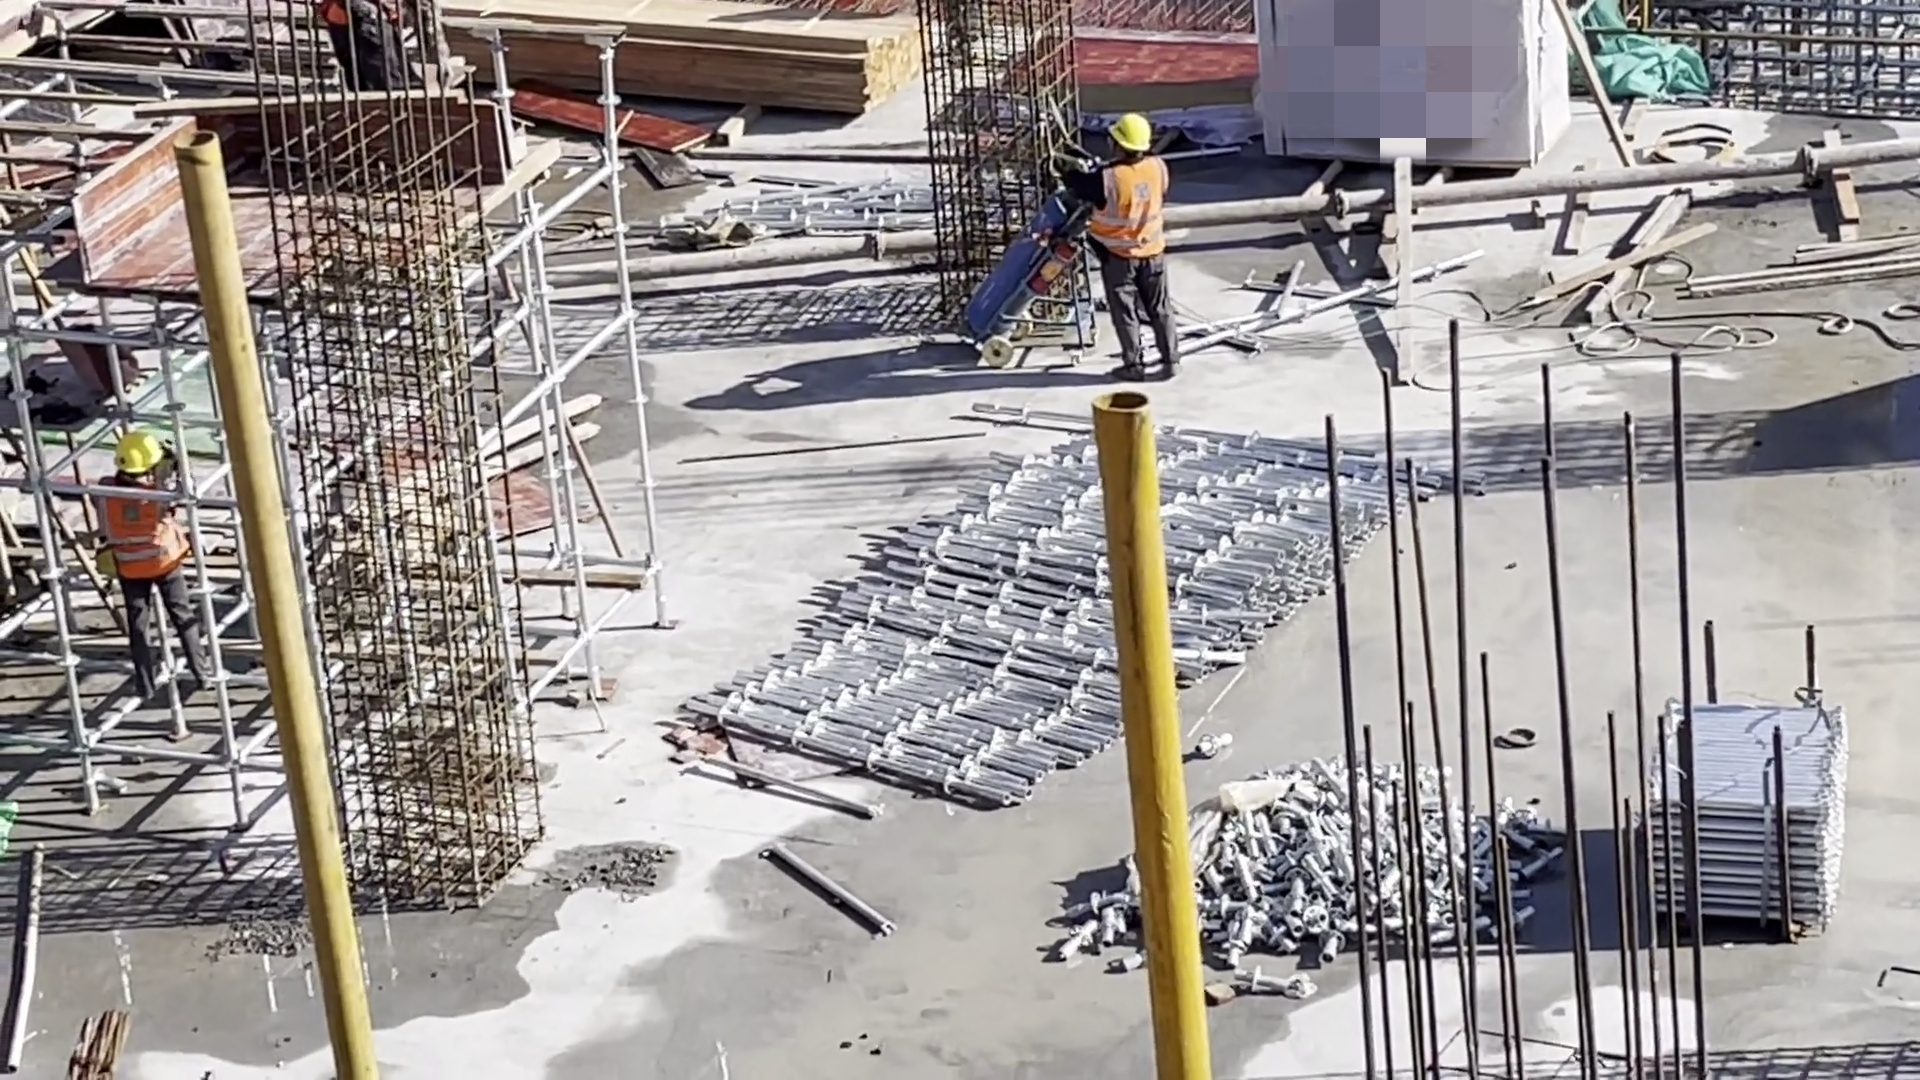helmet: (1104, 112, 1154, 153), (111, 435, 161, 472)
person: (1056, 112, 1196, 383), (96, 435, 215, 691), (317, 5, 447, 91)
scaffold: (672, 438, 1481, 816), (1644, 693, 1847, 926)
vest: (98, 476, 191, 580), (1091, 161, 1172, 261)
wood: (466, 3, 922, 113)
